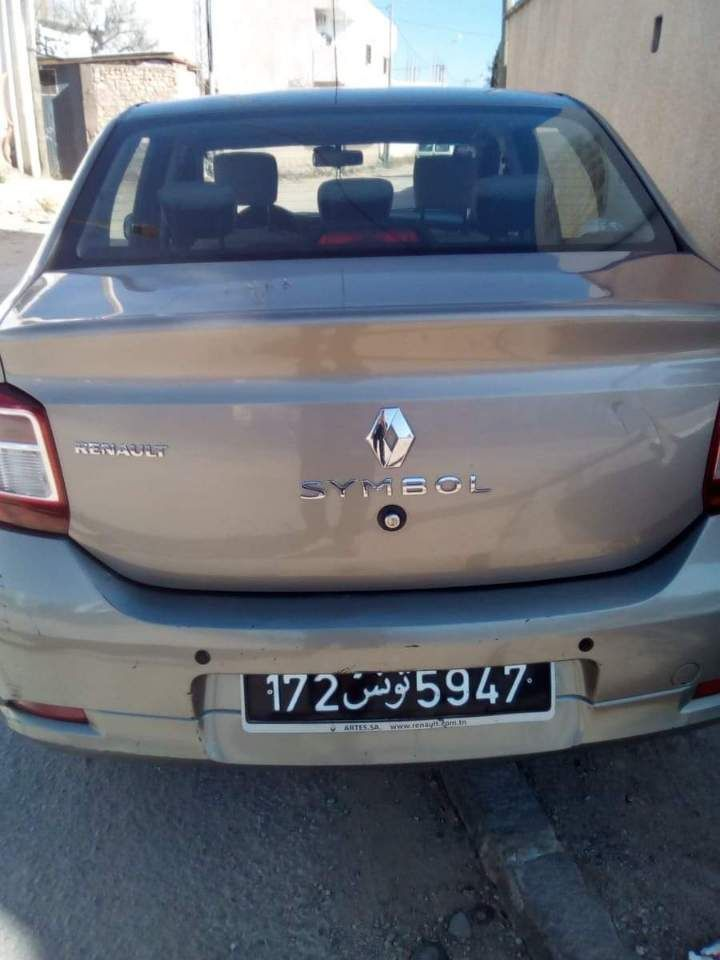LP: (246, 660, 561, 728)
